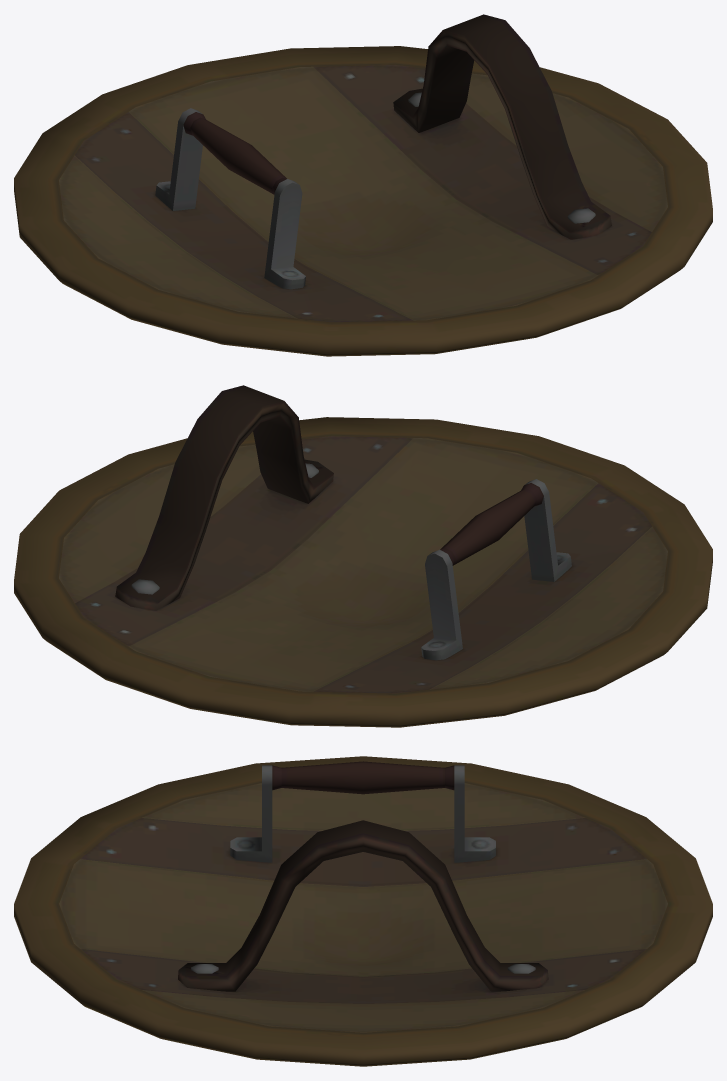
The model's file is Weapon_Shield_026.glb.
The picture shows the model from 3 angles, top to bottom: view 1: azimuth 30°, elevation 25°; view 2: azimuth 150°, elevation 25°; view 3: azimuth 270°, elevation 25°; orthographic projection.
Parts seen in each view (by area): view 1: Weapon_Shield_026; view 2: Weapon_Shield_026; view 3: Weapon_Shield_026.
Boxes of the visible parts, bbox=[...] form: Weapon_Shield_026: bbox=[14, 14, 712, 356]; Weapon_Shield_026: bbox=[14, 385, 712, 727]; Weapon_Shield_026: bbox=[14, 756, 712, 1066].
Size of the model in its own units: 0.6774 by 0.2574 by 0.6772.
1 material, 1 textured.
